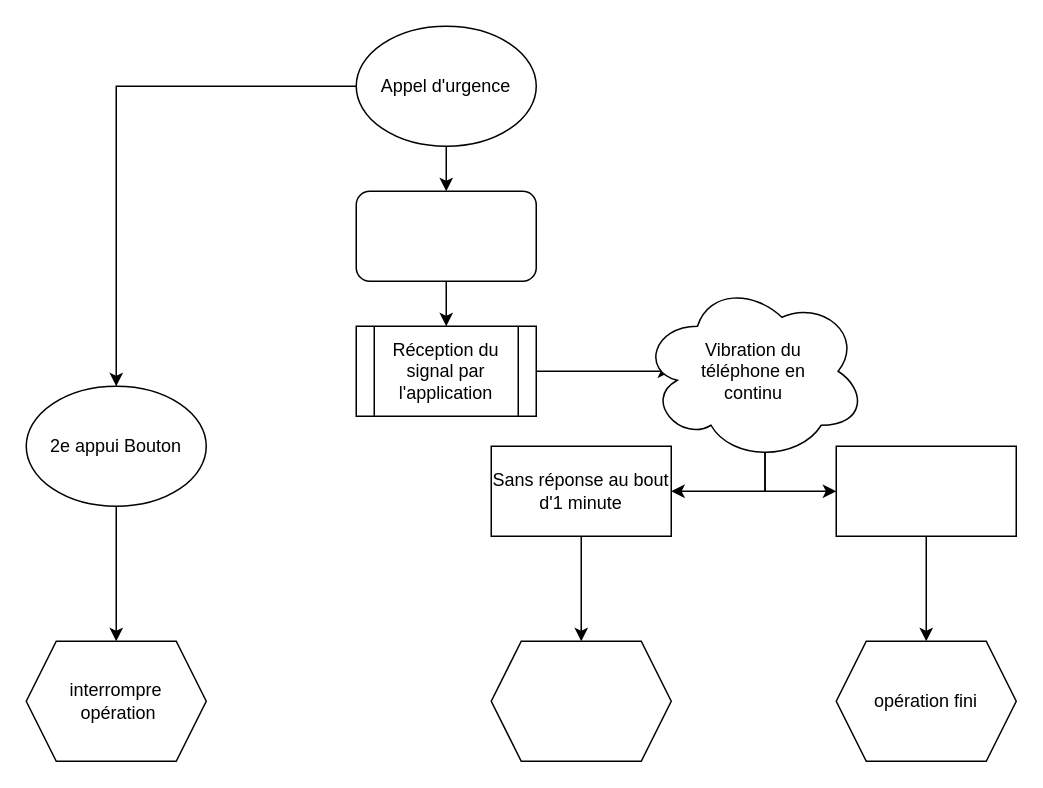
The diagram is 1043 pixels wide and 788 high, and some of its shapes have lost their labels. The centre of each missing label's shape, as x and y in pixels:
"Avec réponse" goes at (x=925, y=490).
"envoi des e-mails d'urgence" goes at (x=580, y=700).
"Envoi du signal SOS" goes at (x=445, y=235).
